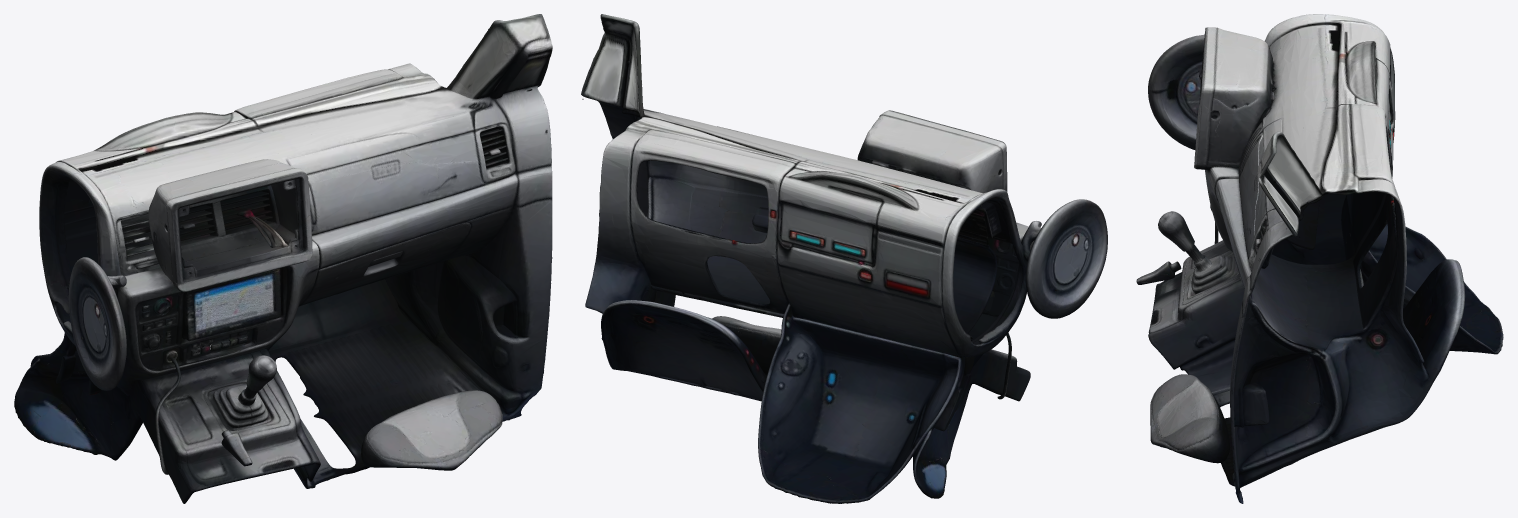
Rendered from dashboard.glb.
3 views of the same model, side by side, from view 1: azimuth 30°, elevation 25°; view 2: azimuth 150°, elevation 25°; view 3: azimuth 270°, elevation 25° (orthographic). The views are drawn at different scales.
Visible parts, largest first — view 1: aiprintgen_0; view 2: aiprintgen_0; view 3: aiprintgen_0.
Part boxes in pixels (<box>): aiprintgen_0: <box>14,14,552,503</box>; aiprintgen_0: <box>581,14,1107,503</box>; aiprintgen_0: <box>1136,14,1503,503</box>.
Size of the model in its own units: 1 by 0.7412 by 0.6594.
1 material, 1 textured.
